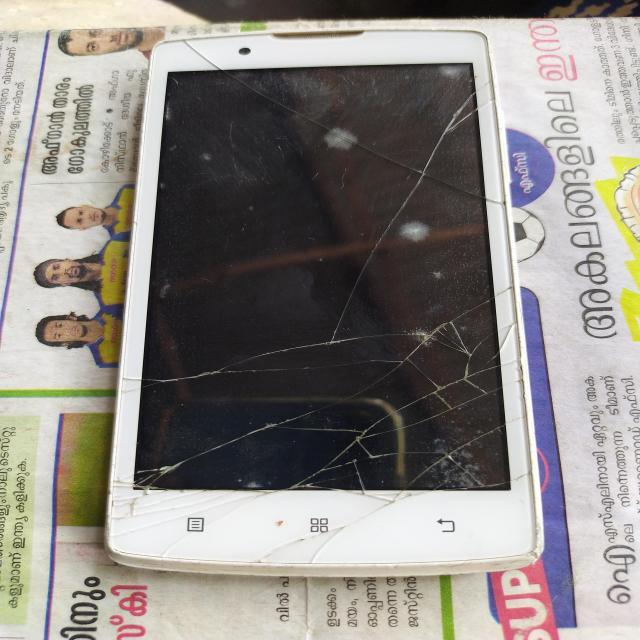phone: (104, 26, 570, 580)
